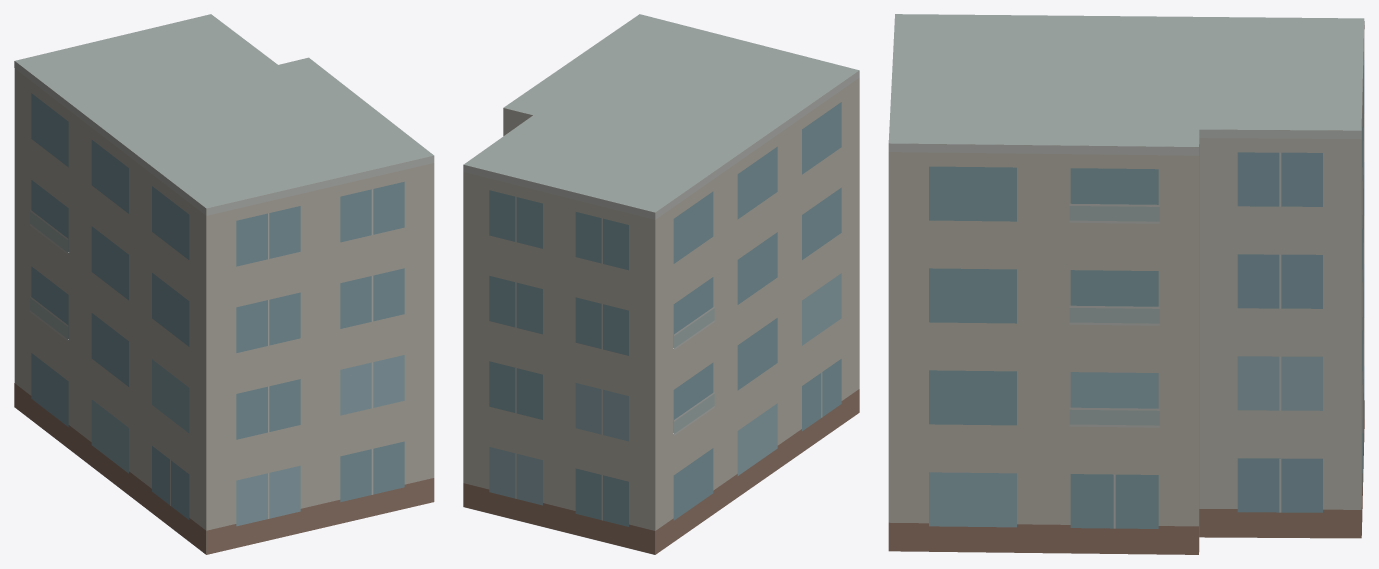
File: survey-upis-33041599.glb
The picture shows the model from 3 angles, left to right: view 1: azimuth 30°, elevation 25°; view 2: azimuth 150°, elevation 25°; view 3: azimuth 270°, elevation 25°; orthographic projection. The views are drawn at different scales.
Visible parts, largest first — view 1: survey-upis-33041599.tmp; view 2: survey-upis-33041599.tmp; view 3: survey-upis-33041599.tmp.
Part boxes in pixels (bbox=[...]): survey-upis-33041599.tmp: bbox=[14, 14, 434, 554]; survey-upis-33041599.tmp: bbox=[463, 14, 859, 554]; survey-upis-33041599.tmp: bbox=[888, 14, 1364, 554].
Bounding box in the file's own units: 8.13 × 11.6 × 12.28.
